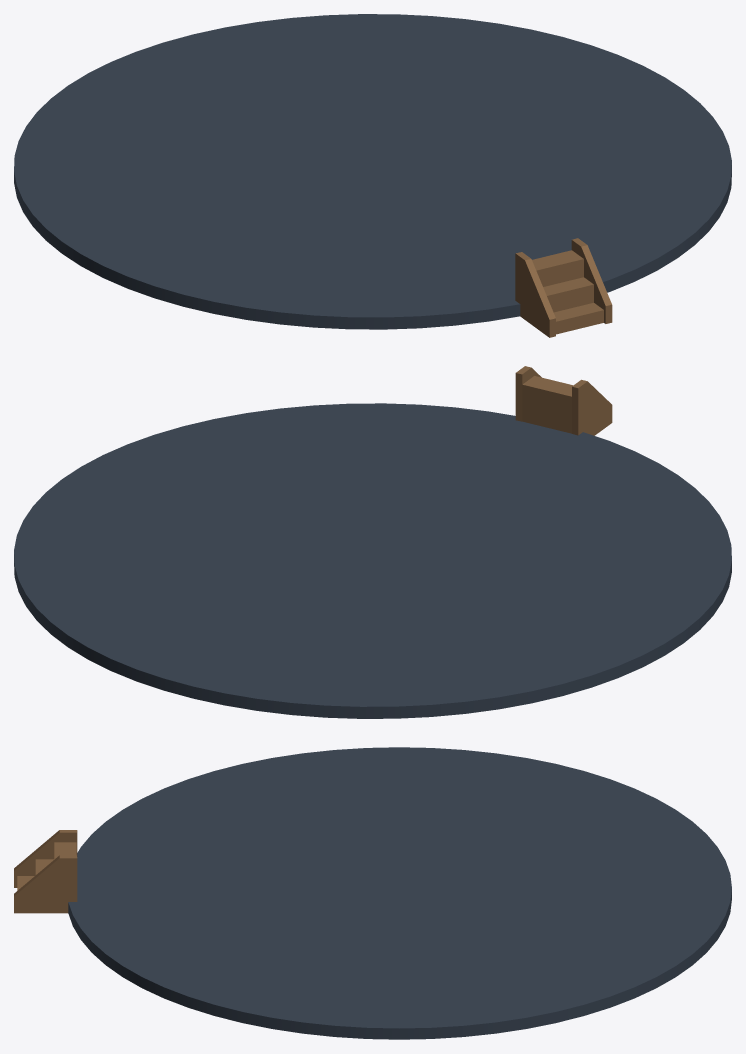
File: SM_Props_Park_03.fbx
3 views of the same model, one above another, from view 1: azimuth 30°, elevation 25°; view 2: azimuth 150°, elevation 25°; view 3: azimuth 270°, elevation 25° (orthographic). The views are drawn at different scales.
Visible parts, largest first — view 1: SM_Props_Park_03; view 2: SM_Props_Park_03; view 3: SM_Props_Park_03.
Part boxes in pixels (box(x1,y1,x2,y2)): SM_Props_Park_03: box(14, 14, 731, 337); SM_Props_Park_03: box(14, 366, 731, 718); SM_Props_Park_03: box(14, 747, 731, 1039).
Bounding box in the file's own units: 8.33 × 0.762 × 8.99.
